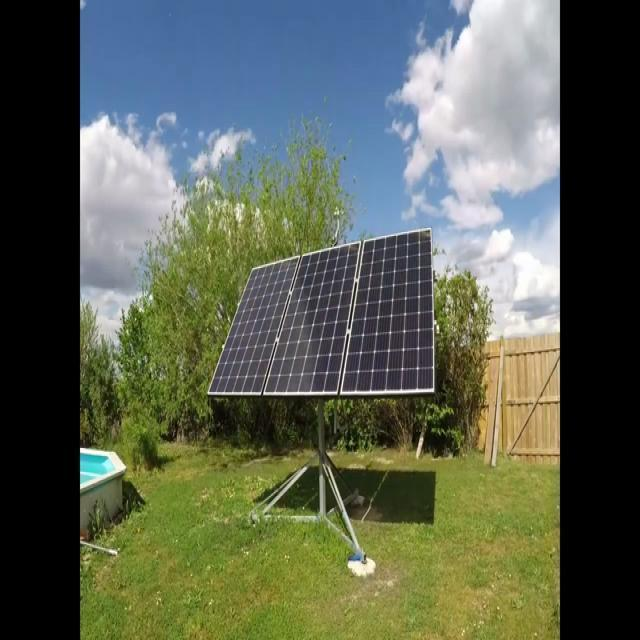Normal Solar Panel: (341, 231, 434, 394), (265, 243, 360, 396), (209, 257, 300, 396)
